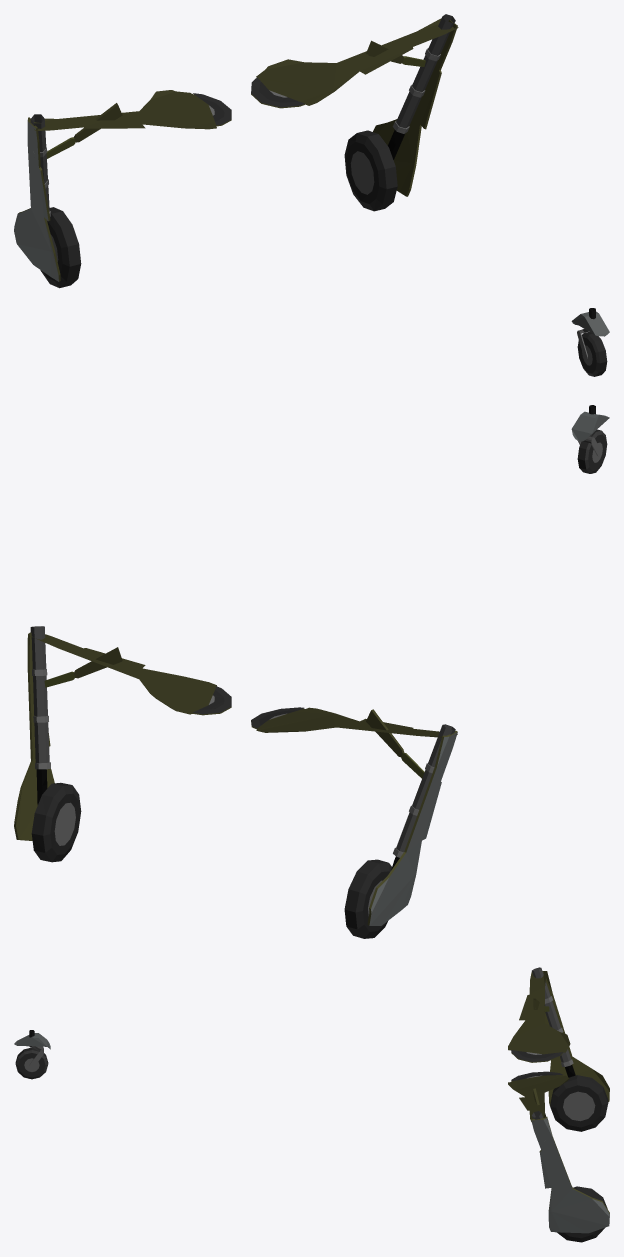
The model's file is Gear_FW190NP.obj.
The picture shows the model from 3 angles, top to bottom: view 1: azimuth 30°, elevation 25°; view 2: azimuth 150°, elevation 25°; view 3: azimuth 270°, elevation 25°; orthographic projection. The views are drawn at different scales.
Visible parts, largest first — view 1: ShapeIndexedFaceSet.079_ShapeIndexedFaceSet.000, ShapeIndexedFaceSet.059_ShapeIndexedFaceSet.000, ShapeIndexedFaceSet.072_ShapeIndexedFaceSet.000, ShapeIndexedFaceSet.071_ShapeIndexedFaceSet.000, ShapeIndexedFaceSet.067_ShapeIndexedFaceSet.000, ShapeIndexedFaceSet.062_ShapeIndexedFaceSet.000, ShapeIndexedFaceSet.069_ShapeIndexedFaceSet.000, ShapeIndexedFaceSet.073_ShapeIndexedFaceSet.000, ShapeIndexedFaceSet.078_ShapeIndexedFaceSet.000, ShapeIndexedFaceSet.064_ShapeIndexedFaceSet.000, ShapeIndexedFaceSet.058_ShapeIndexedFaceSet.000, ShapeIndexedFaceSet.087_ShapeIndexedFaceSet.000 (+2 smaller); view 2: ShapeIndexedFaceSet.079_ShapeIndexedFaceSet.000, ShapeIndexedFaceSet.059_ShapeIndexedFaceSet.000, ShapeIndexedFaceSet.072_ShapeIndexedFaceSet.000, ShapeIndexedFaceSet.067_ShapeIndexedFaceSet.000, ShapeIndexedFaceSet.071_ShapeIndexedFaceSet.000, ShapeIndexedFaceSet.062_ShapeIndexedFaceSet.000, ShapeIndexedFaceSet.058_ShapeIndexedFaceSet.000, ShapeIndexedFaceSet.069_ShapeIndexedFaceSet.000, ShapeIndexedFaceSet.073_ShapeIndexedFaceSet.000, ShapeIndexedFaceSet.064_ShapeIndexedFaceSet.000; view 3: ShapeIndexedFaceSet.068_ShapeIndexedFaceSet.000, ShapeIndexedFaceSet.079_ShapeIndexedFaceSet.000, ShapeIndexedFaceSet.063_ShapeIndexedFaceSet.000, ShapeIndexedFaceSet.062_ShapeIndexedFaceSet.000, ShapeIndexedFaceSet.064_ShapeIndexedFaceSet.000, ShapeIndexedFaceSet.060_ShapeIndexedFaceSet.000, ShapeIndexedFaceSet.058_ShapeIndexedFaceSet.000.
Part boxes in pixels (left/top/right/bottom): ShapeIndexedFaceSet.079_ShapeIndexedFaceSet.000: left=30, top=18, right=458, bottom=130; ShapeIndexedFaceSet.059_ShapeIndexedFaceSet.000: left=14, top=120, right=58, bottom=281; ShapeIndexedFaceSet.072_ShapeIndexedFaceSet.000: left=373, top=20, right=457, bottom=196; ShapeIndexedFaceSet.071_ShapeIndexedFaceSet.000: left=346, top=130, right=397, bottom=210; ShapeIndexedFaceSet.067_ShapeIndexedFaceSet.000: left=396, top=14, right=455, bottom=128; ShapeIndexedFaceSet.062_ShapeIndexedFaceSet.000: left=43, top=207, right=81, bottom=287; ShapeIndexedFaceSet.069_ShapeIndexedFaceSet.000: left=350, top=48, right=440, bottom=194; ShapeIndexedFaceSet.073_ShapeIndexedFaceSet.000: left=344, top=133, right=386, bottom=211; ShapeIndexedFaceSet.078_ShapeIndexedFaceSet.000: left=193, top=77, right=304, bottom=125; ShapeIndexedFaceSet.064_ShapeIndexedFaceSet.000: left=40, top=214, right=69, bottom=287; ShapeIndexedFaceSet.058_ShapeIndexedFaceSet.000: left=30, top=114, right=49, bottom=211; ShapeIndexedFaceSet.087_ShapeIndexedFaceSet.000: left=571, top=311, right=609, bottom=336; ShapeIndexedFaceSet.079_ShapeIndexedFaceSet.000: left=30, top=634, right=457, bottom=737; ShapeIndexedFaceSet.059_ShapeIndexedFaceSet.000: left=369, top=732, right=457, bottom=925; ShapeIndexedFaceSet.072_ShapeIndexedFaceSet.000: left=14, top=632, right=54, bottom=840; ShapeIndexedFaceSet.067_ShapeIndexedFaceSet.000: left=30, top=626, right=49, bottom=763; ShapeIndexedFaceSet.071_ShapeIndexedFaceSet.000: left=31, top=782, right=80, bottom=862; ShapeIndexedFaceSet.062_ShapeIndexedFaceSet.000: left=344, top=859, right=389, bottom=938; ShapeIndexedFaceSet.058_ShapeIndexedFaceSet.000: left=396, top=724, right=455, bottom=852; ShapeIndexedFaceSet.069_ShapeIndexedFaceSet.000: left=32, top=669, right=75, bottom=845; ShapeIndexedFaceSet.073_ShapeIndexedFaceSet.000: left=43, top=785, right=81, bottom=862; ShapeIndexedFaceSet.064_ShapeIndexedFaceSet.000: left=355, top=862, right=391, bottom=938; ShapeIndexedFaceSet.068_ShapeIndexedFaceSet.000: left=531, top=1118, right=609, bottom=1233; ShapeIndexedFaceSet.079_ShapeIndexedFaceSet.000: left=508, top=972, right=570, bottom=1122; ShapeIndexedFaceSet.063_ShapeIndexedFaceSet.000: left=531, top=971, right=609, bottom=1106; ShapeIndexedFaceSet.062_ShapeIndexedFaceSet.000: left=550, top=1075, right=608, bottom=1127; ShapeIndexedFaceSet.064_ShapeIndexedFaceSet.000: left=550, top=1079, right=607, bottom=1131; ShapeIndexedFaceSet.060_ShapeIndexedFaceSet.000: left=545, top=996, right=595, bottom=1121; ShapeIndexedFaceSet.058_ShapeIndexedFaceSet.000: left=532, top=967, right=571, bottom=1062.
Size of the model in its own units: 41.38 by 19.93 by 69.74.
